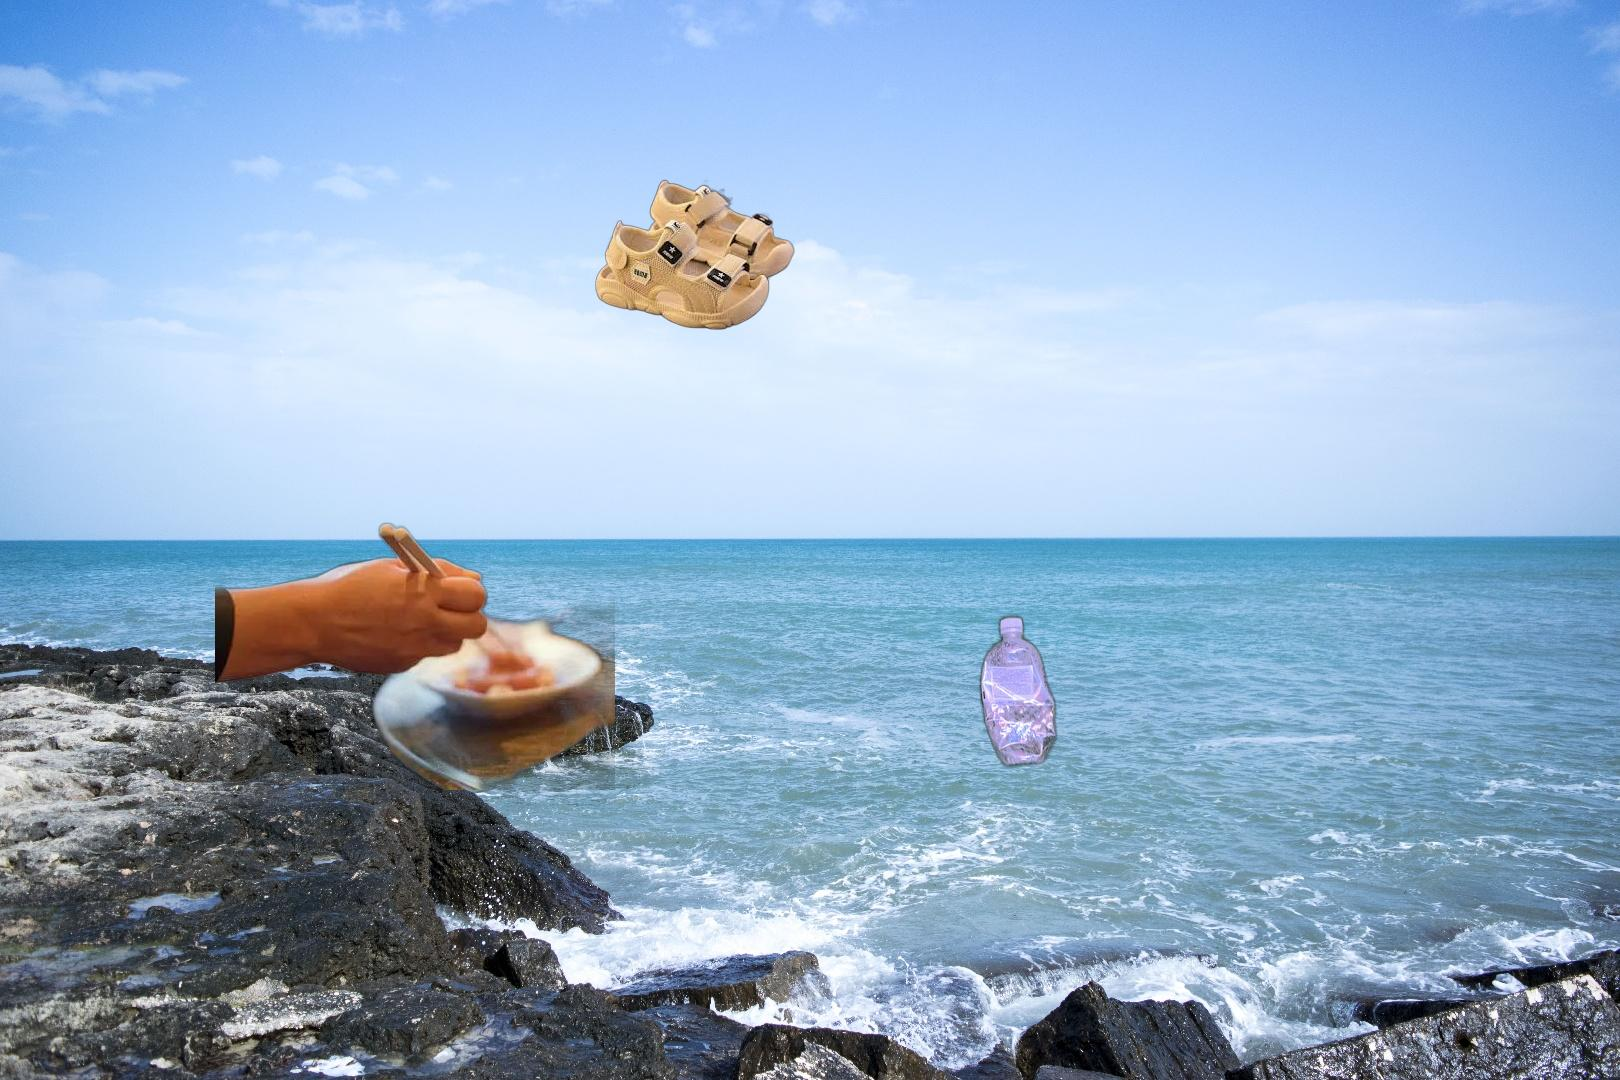biological: (215, 521, 615, 790)
plastic-bottles: (976, 609, 1061, 771)
shoes: (593, 177, 797, 331)
